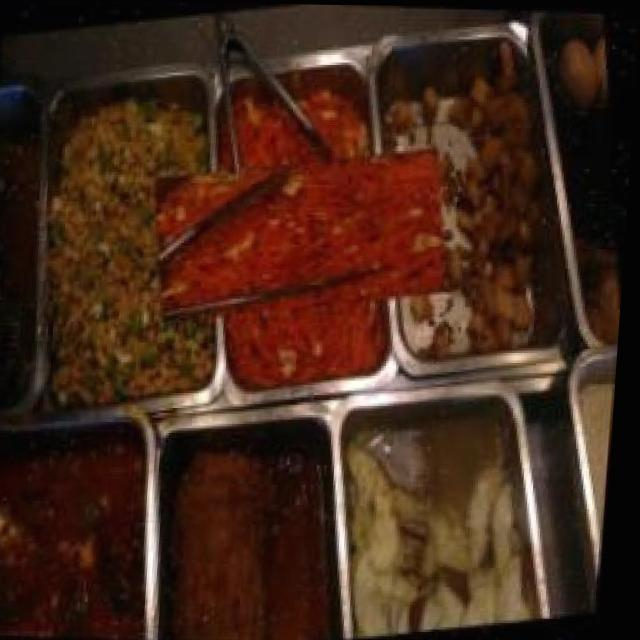carrot_eggs: (173, 109, 434, 360)
